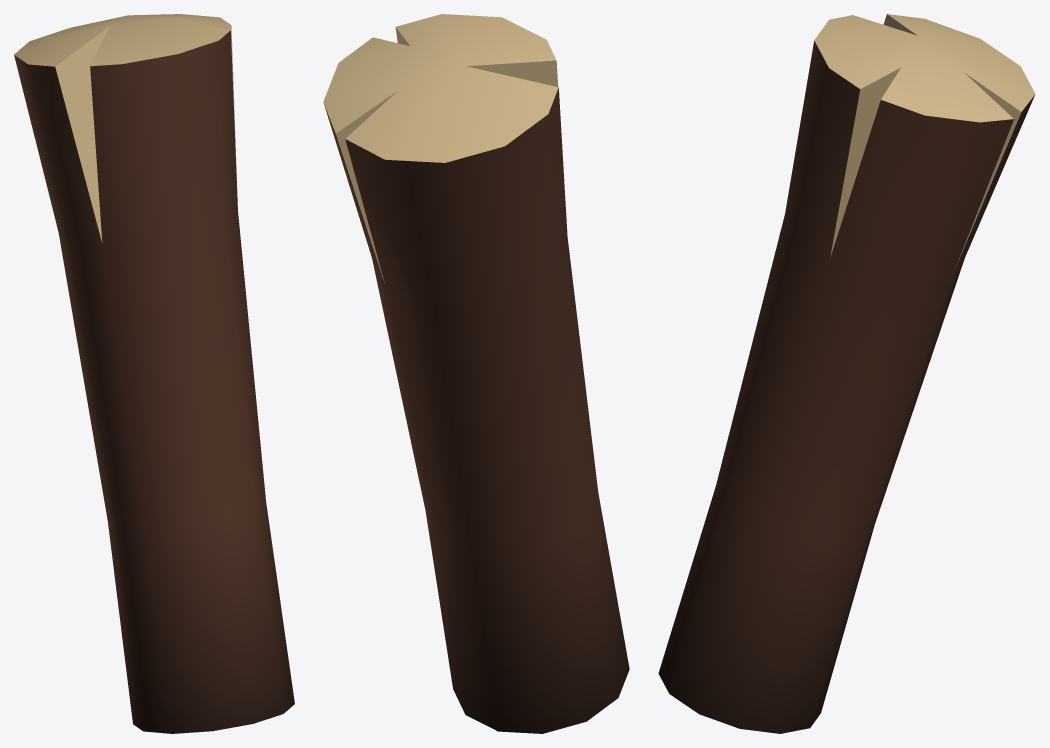
The model's file is Scenery_Fencepost.fbx.
3 views of the same model, side by side, from view 1: azimuth 30°, elevation 25°; view 2: azimuth 150°, elevation 25°; view 3: azimuth 270°, elevation 25° (orthographic). The views are drawn at different scales.
Parts seen in each view (by area): view 1: Fencepost; view 2: Fencepost; view 3: Fencepost.
Part boxes in pixels (<box>): Fencepost: <box>14,14,294,733</box>; Fencepost: <box>323,14,629,733</box>; Fencepost: <box>658,14,1035,733</box>.
Size of the model in its own units: 90.74 by 294 by 149.
